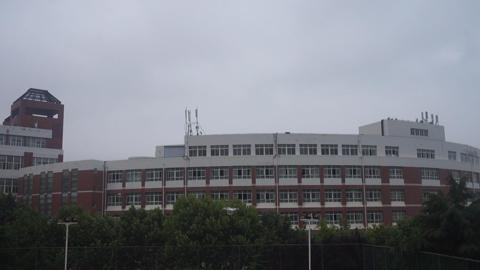UAV: (222, 207, 240, 215)
